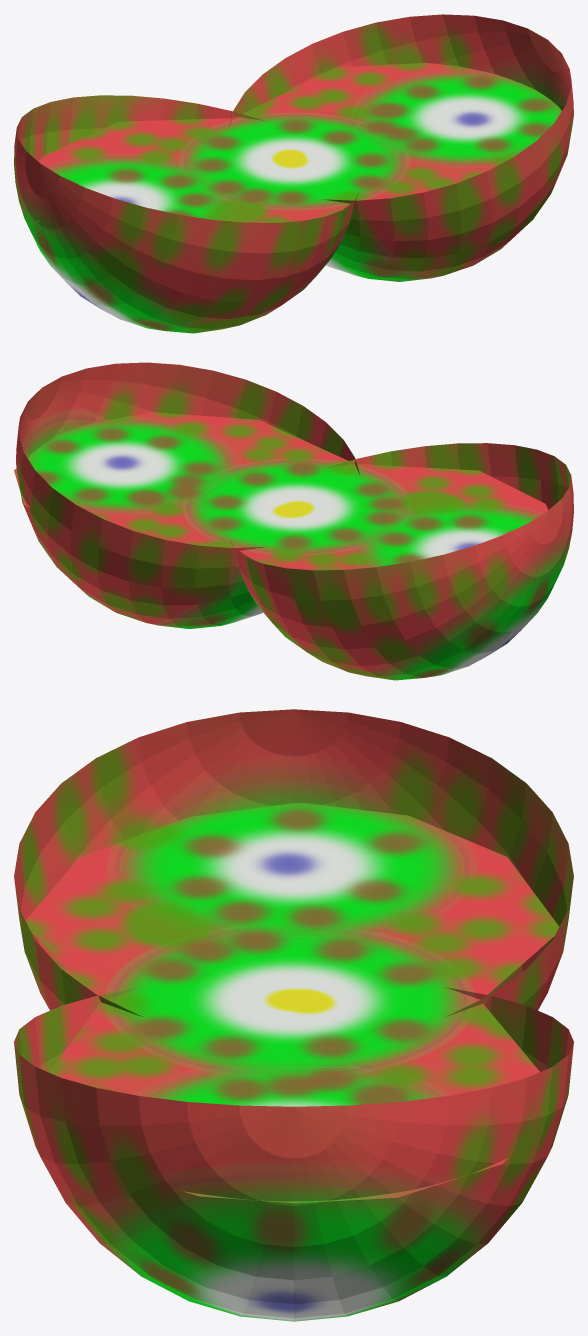
File: uolola.obj
3 views of the same model, one above another, from view 1: azimuth 30°, elevation 25°; view 2: azimuth 150°, elevation 25°; view 3: azimuth 270°, elevation 25° (orthographic). The views are drawn at different scales.
Visible parts, largest first — view 1: Sphere; view 2: Sphere; view 3: Sphere.
Boxes of the visible parts, left/top/right/bottom form: Sphere: left=14, top=14, right=573, bottom=333; Sphere: left=14, top=362, right=573, bottom=680; Sphere: left=14, top=709, right=573, bottom=1321.
Size of the model in its own units: 3.4 by 1.2 by 2.
1 material, 1 textured.
